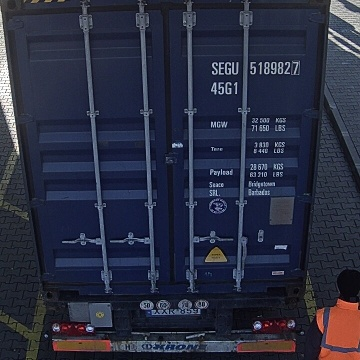serial_id: (210, 61, 300, 75)
